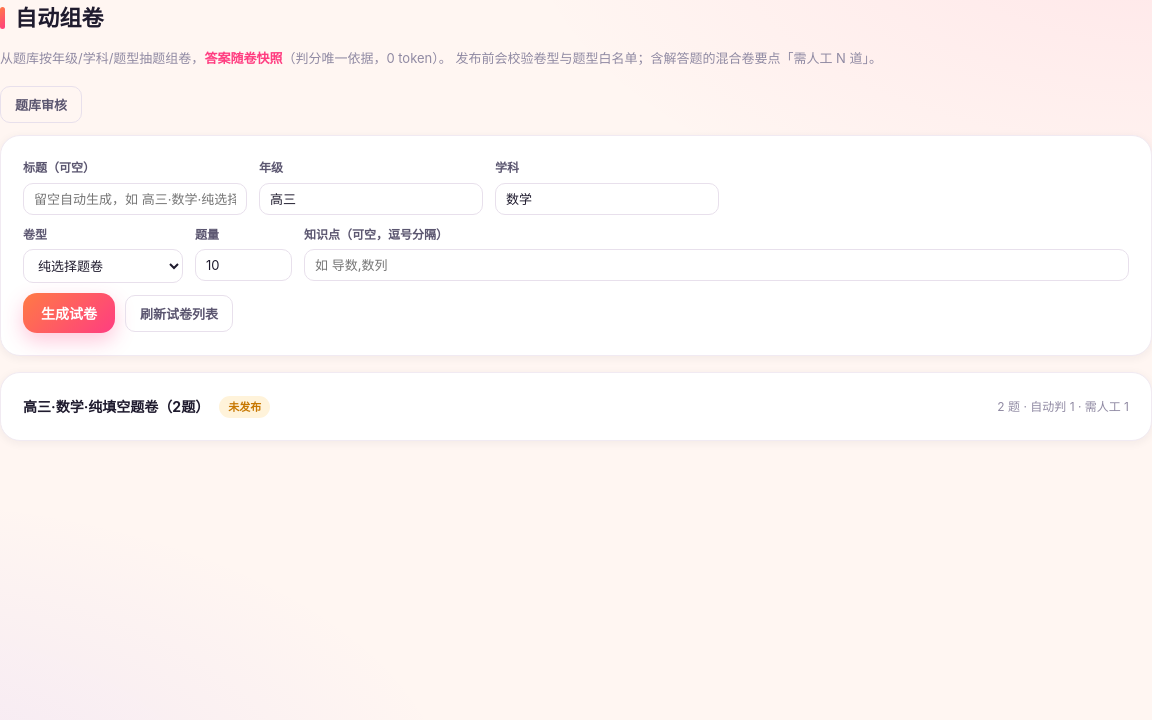
Test: Exam.vue 答案双源校验（M2-9 / G1） › 选中试卷后展示每题的校验结论与汇总
Click the element showing "高三·数学·纯填空题卷（2题） 未发布 2 题 · 自动判 1 · 需人工 1" at (576, 407), box [0, 372, 1151, 441]
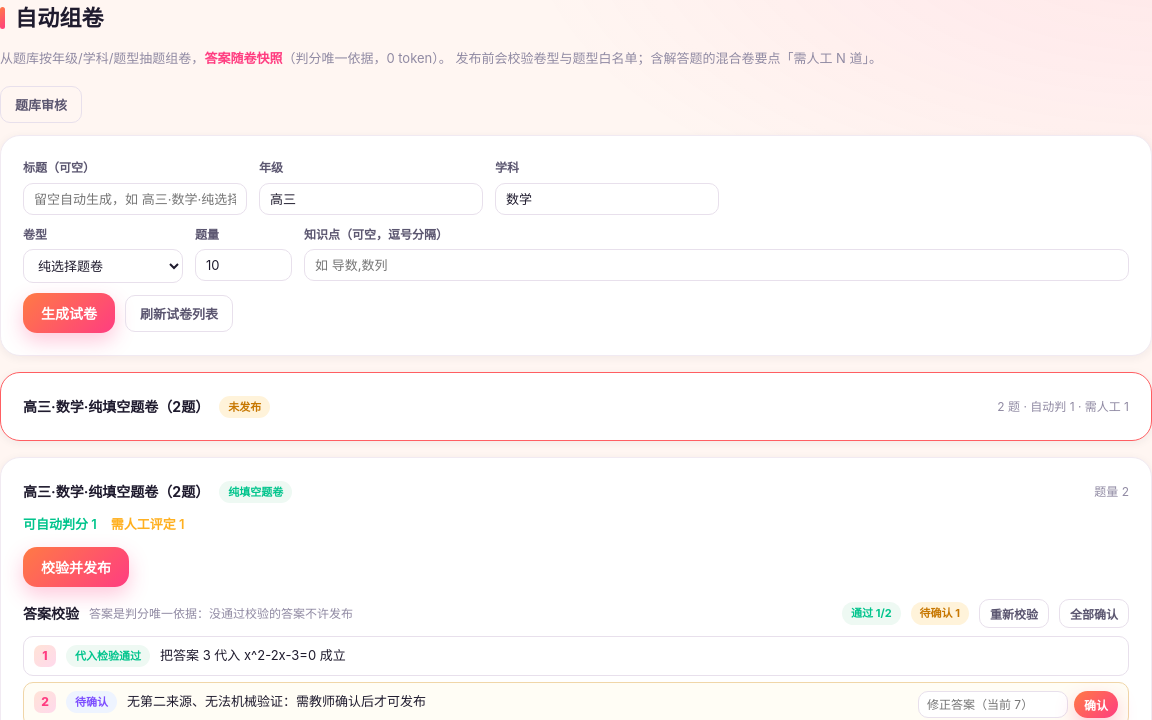
Expected: the text "答案校验" is shown, [23, 602, 79, 625]
Expected: the text "通过 1/2" is shown, [842, 602, 901, 624]
Expected: the text "代入检验通过" is shown, [66, 645, 150, 667]
